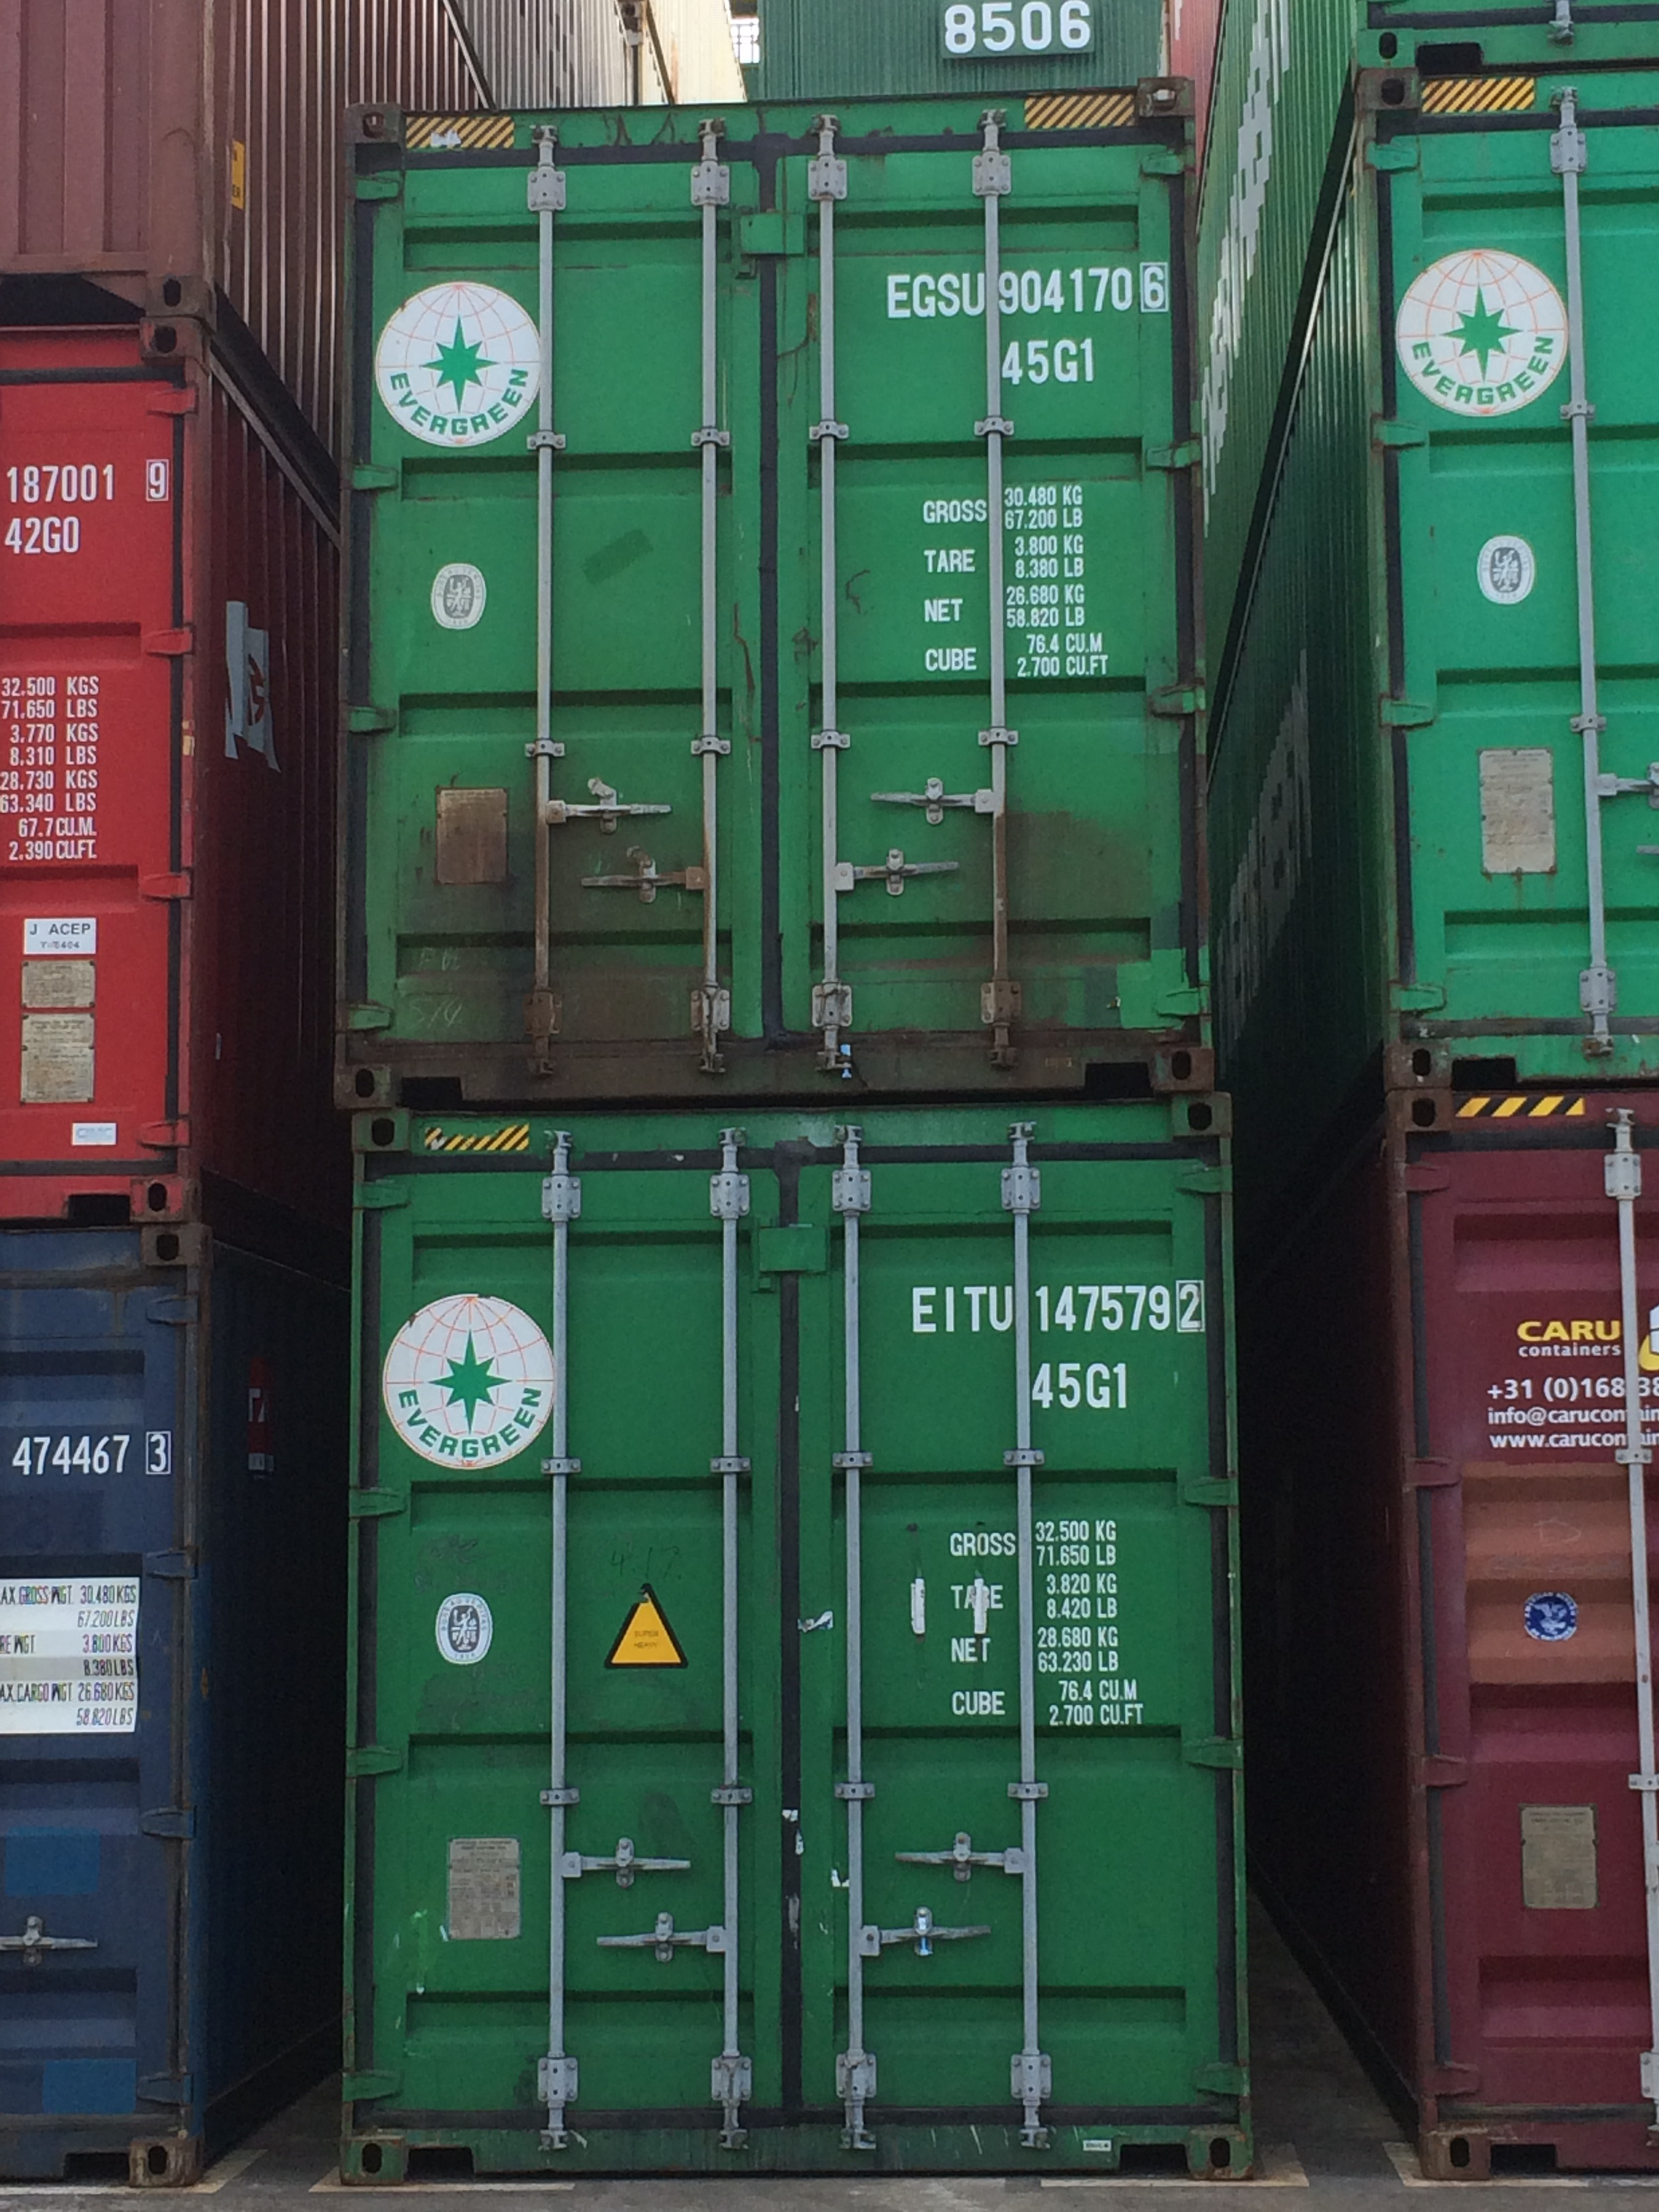container_door: (338, 1099, 1255, 2175), (333, 101, 1223, 1090)
